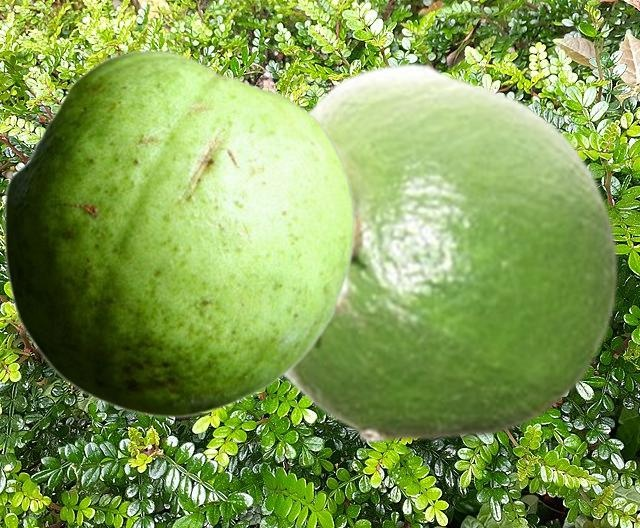guava: (282, 60, 621, 443), (3, 50, 354, 417)
